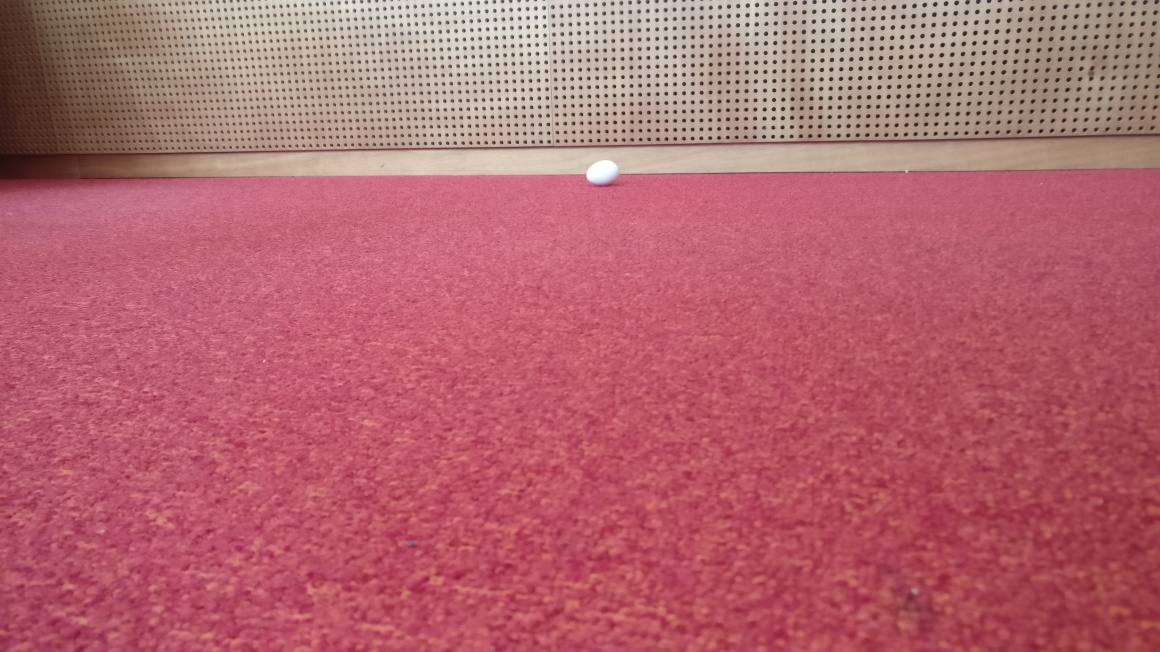egg: (585, 159, 618, 186)
